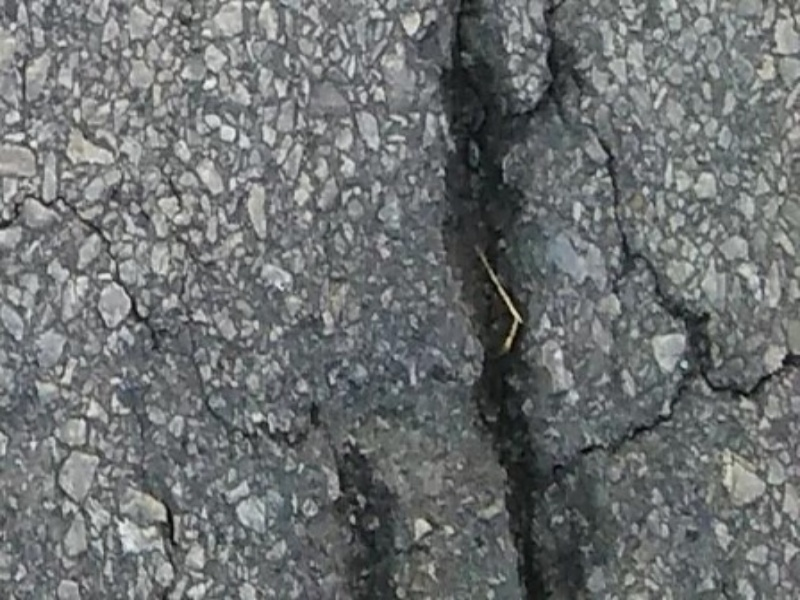crack: (18, 193, 425, 567), (434, 1, 574, 587), (572, 118, 790, 391), (537, 327, 698, 498), (498, 1, 575, 130)
